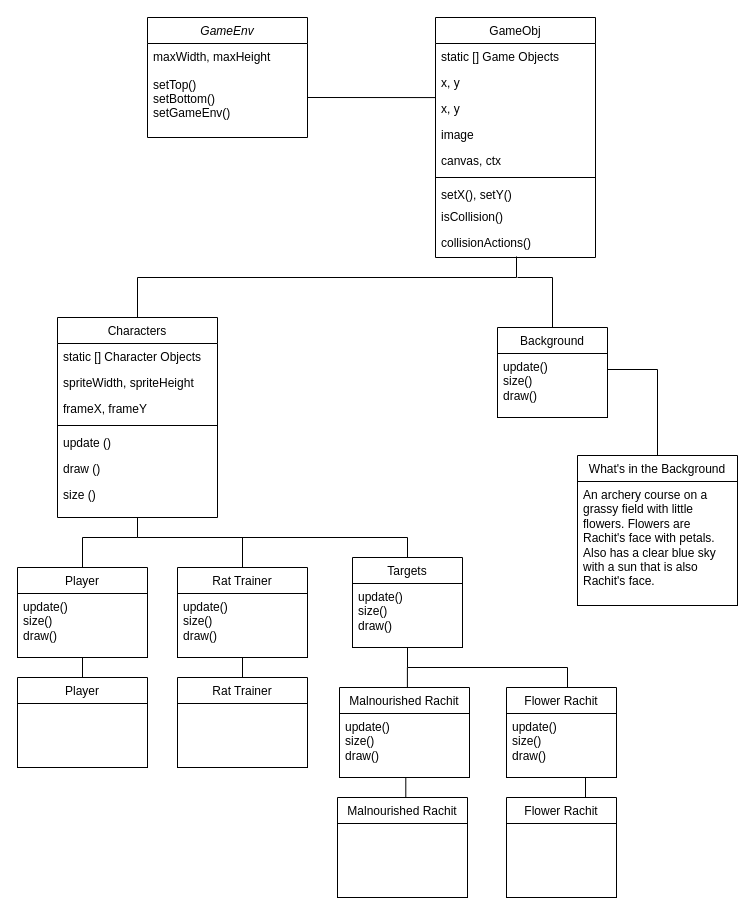
This 755x915 diagram has some shape labels left out. The centre of each missing label's shape, as x and y in pixels:
Average sprite, no specific customizations: pixel 82 735
Narrator that teaches the player what to do, is the shape of a rat.: pixel 242 735
Super skinny Rachit which is worth 100 points because it is hard to get.: pixel 402 860
Tiny Rachit face with petals that is worth 50 points: pixel 561 860
